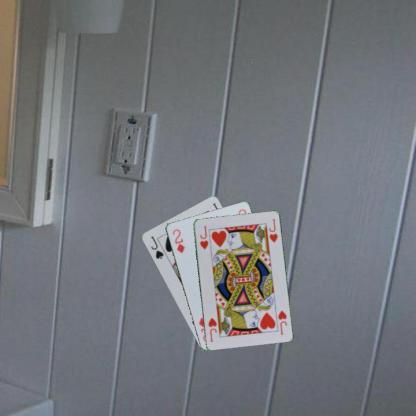2d: (170, 226, 186, 254)
Jh: (275, 307, 288, 336), (197, 223, 209, 250)
Js: (148, 233, 165, 260)
